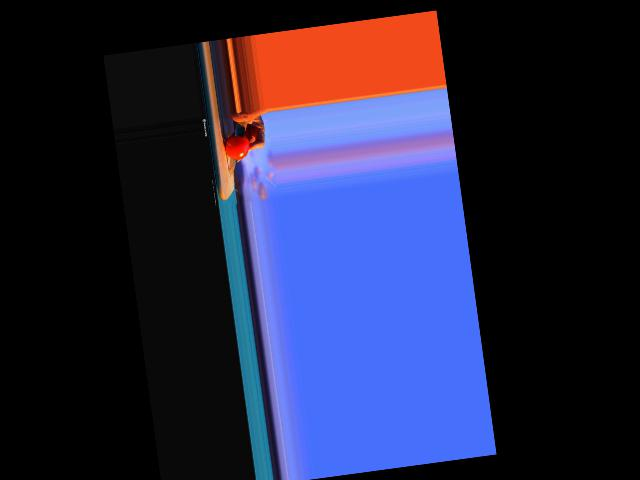tomato: (223, 133, 250, 162)
